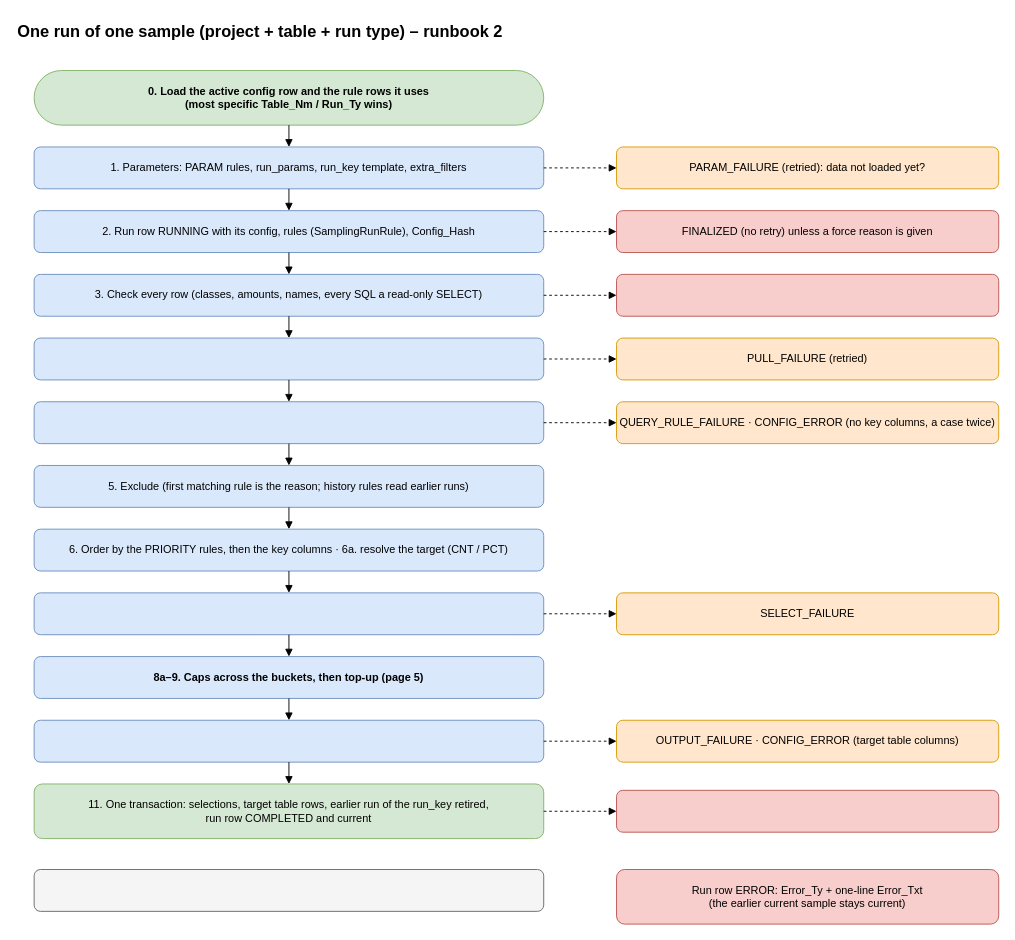
Some shapes in this 1015 by 940 pixel diagram are drawn without their labels. The shapes that lost their labels are listed below. From the top down, each one's centre as x and y in pixels, then its label:
pixel 807 294: CONFIG_ERROR (no retry): first problem in Error_Txt, all in the log
pixel 288 358: 4. Pull the key columns of Scope_Sql_Txt's rows, extra_filters applied
pixel 288 422: 4a. Each rule's SELECT: the pulled cases it returns (or its value)
pixel 288 613: 7–8. Stratify level by level and select per leaf (page 4)
pixel 288 740: 10. Read the selected cases' source rows back for the target table
pixel 807 810: PERSIST_FAILURE: rolled back, nothing half written
pixel 288 890: dry run: everything but the writes (no run row)
